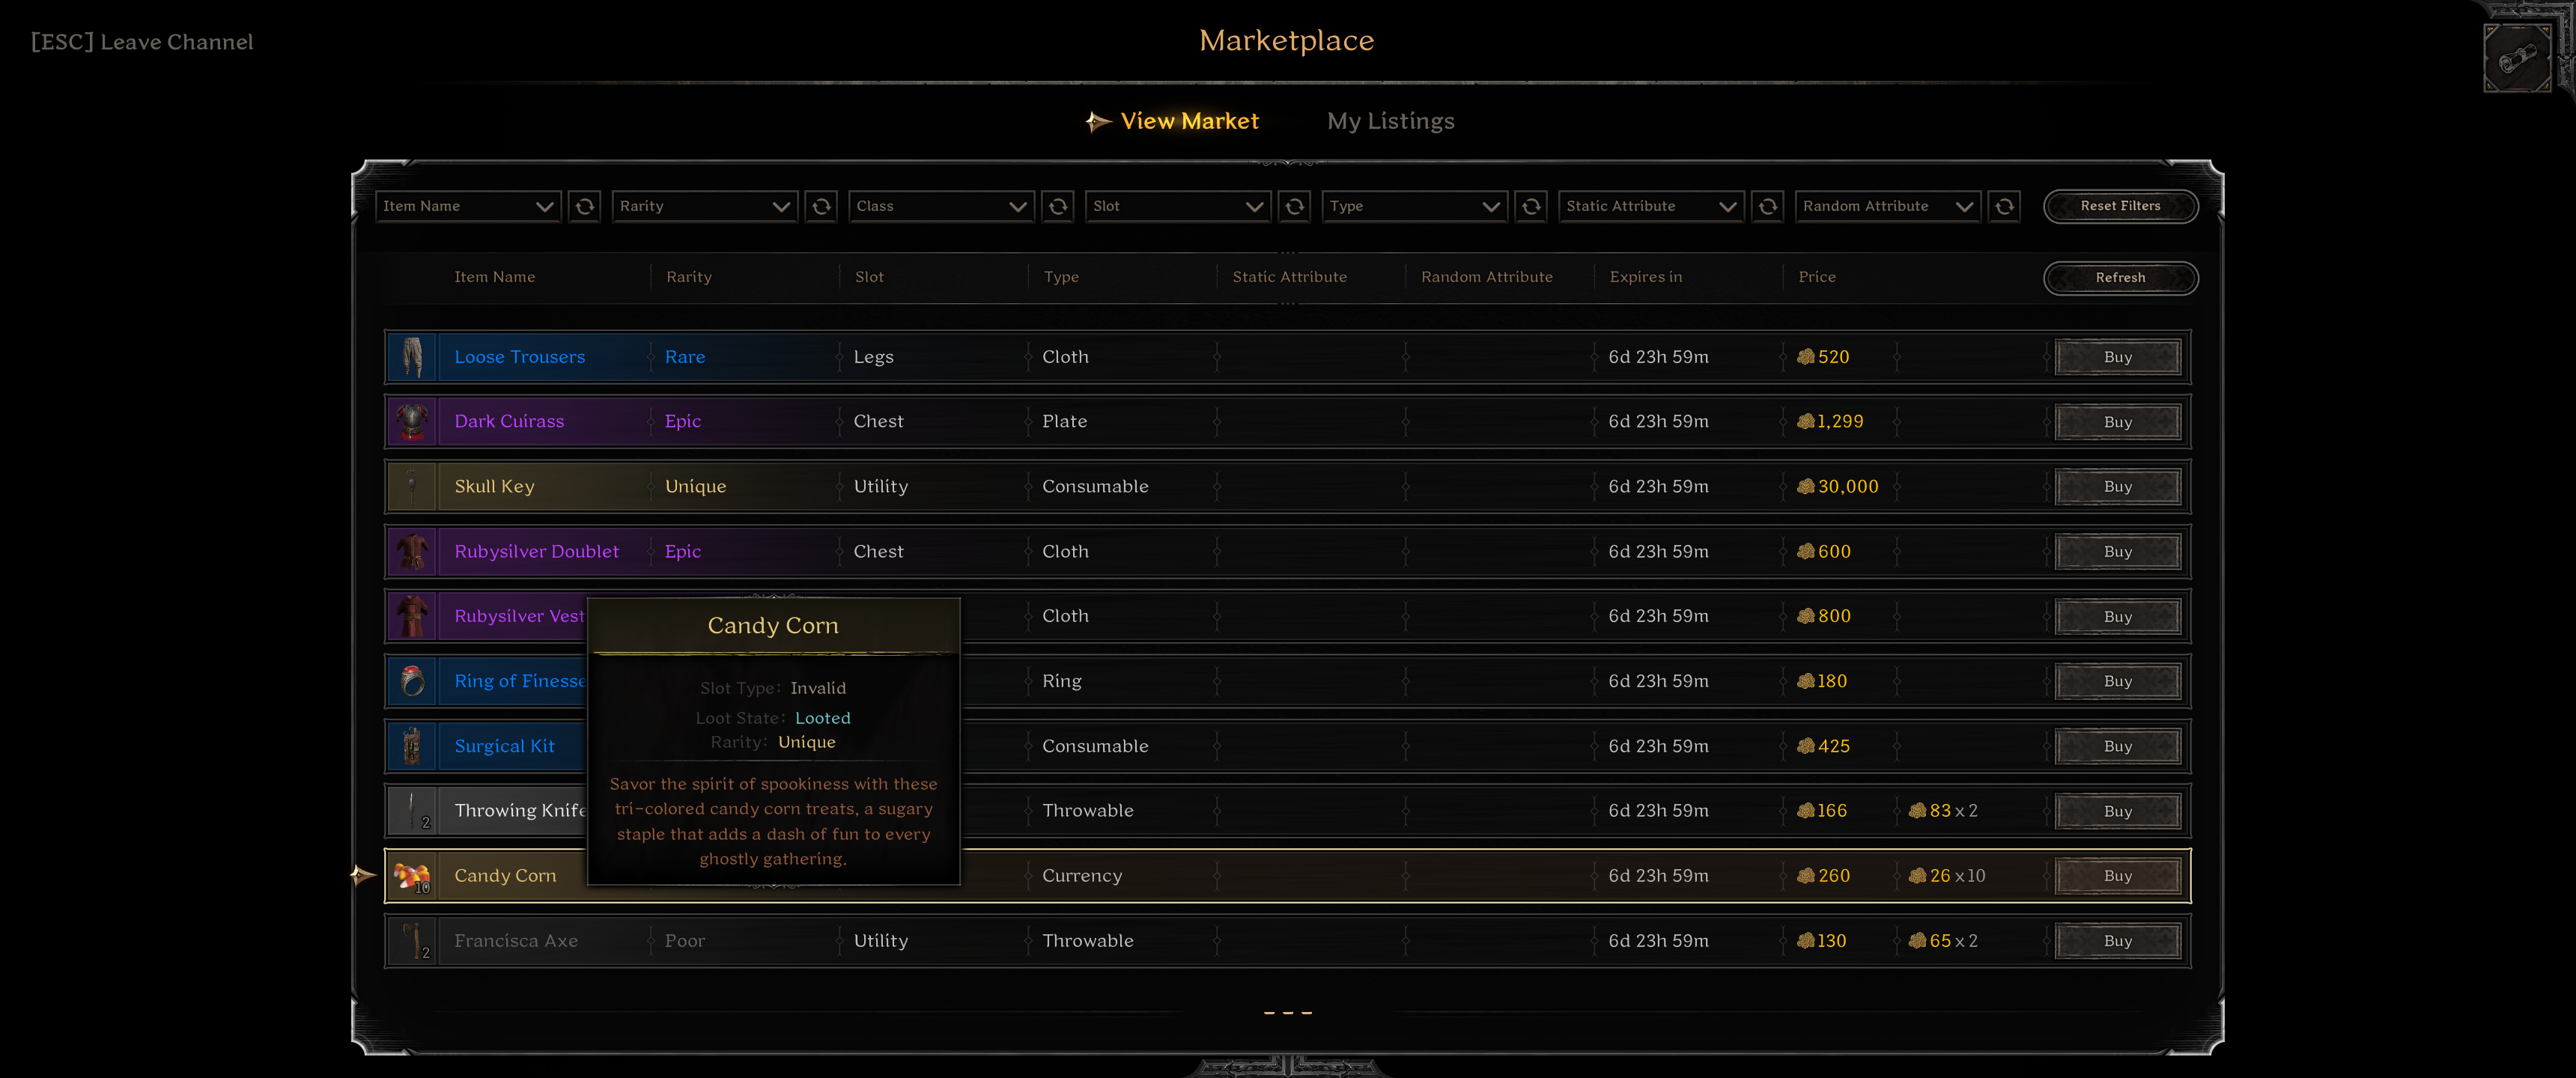Tooltip: (585, 597, 961, 886)
